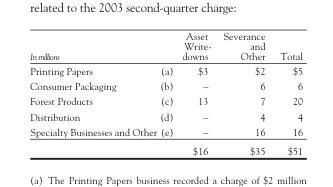table: (29, 29, 302, 155)
table column: (29, 29, 176, 155), (216, 29, 272, 155), (176, 29, 216, 155), (272, 29, 302, 155)
table column header: (29, 29, 302, 62)
table row: (29, 29, 302, 62), (29, 123, 302, 140), (29, 77, 302, 93), (29, 62, 302, 77), (29, 93, 302, 108), (29, 108, 302, 123), (29, 140, 302, 155)
